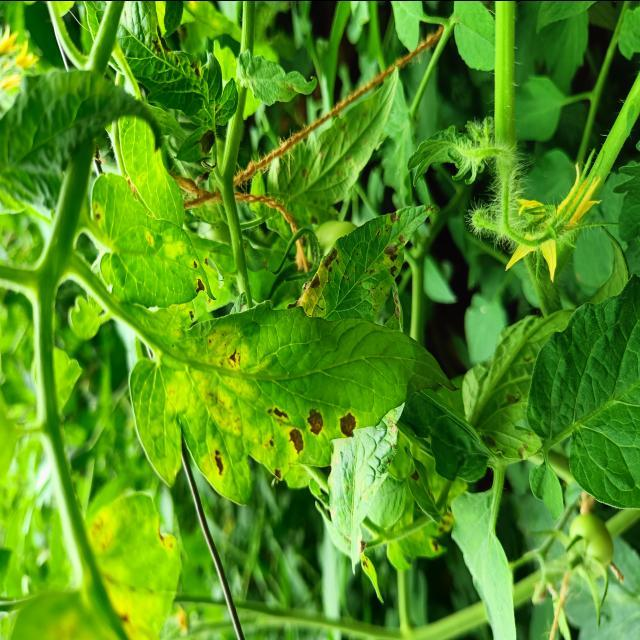Tomato mosaic virus leaf: (124, 307, 462, 511), (291, 194, 441, 316), (143, 19, 239, 163), (131, 216, 217, 308)
